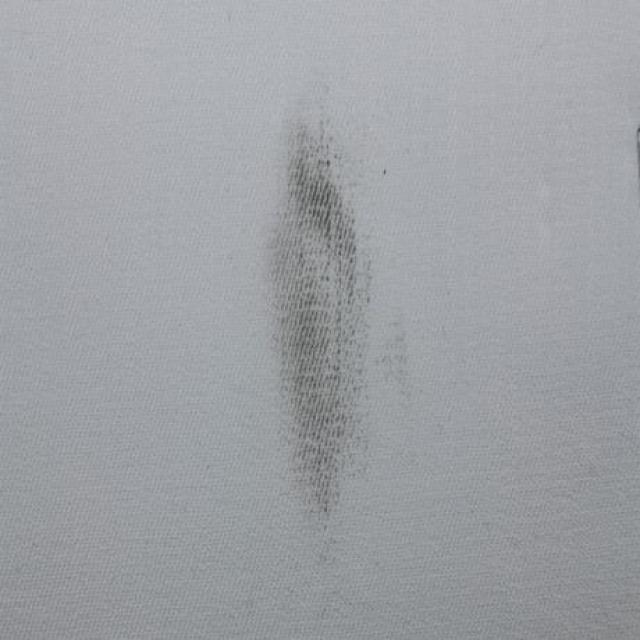Thread_other: (180, 66, 458, 562)
